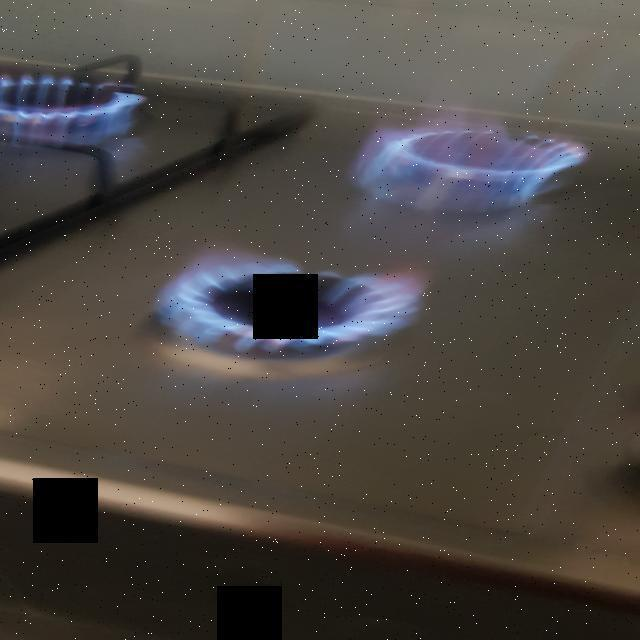Flame: (174, 265, 432, 360), (360, 123, 611, 220), (0, 74, 149, 146)
